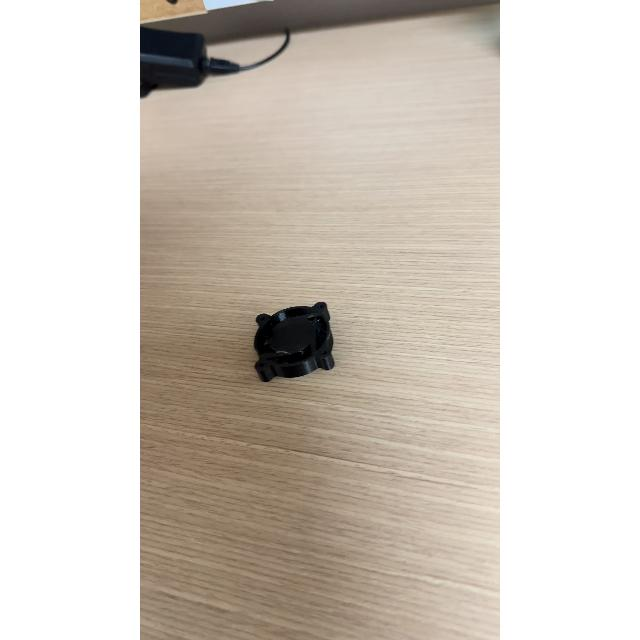Pieza_4: (226, 287, 350, 393)
